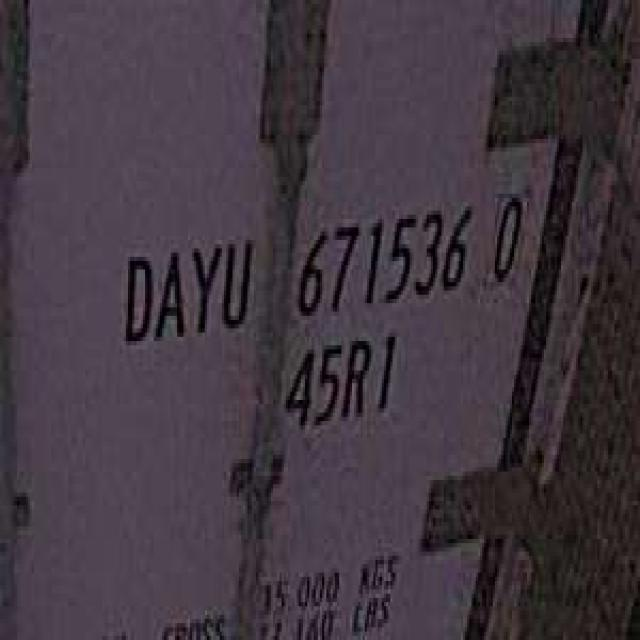dv: (486, 172, 527, 290)
owner: (115, 219, 256, 358)
serial: (286, 190, 473, 324)
size: (290, 324, 403, 434)
